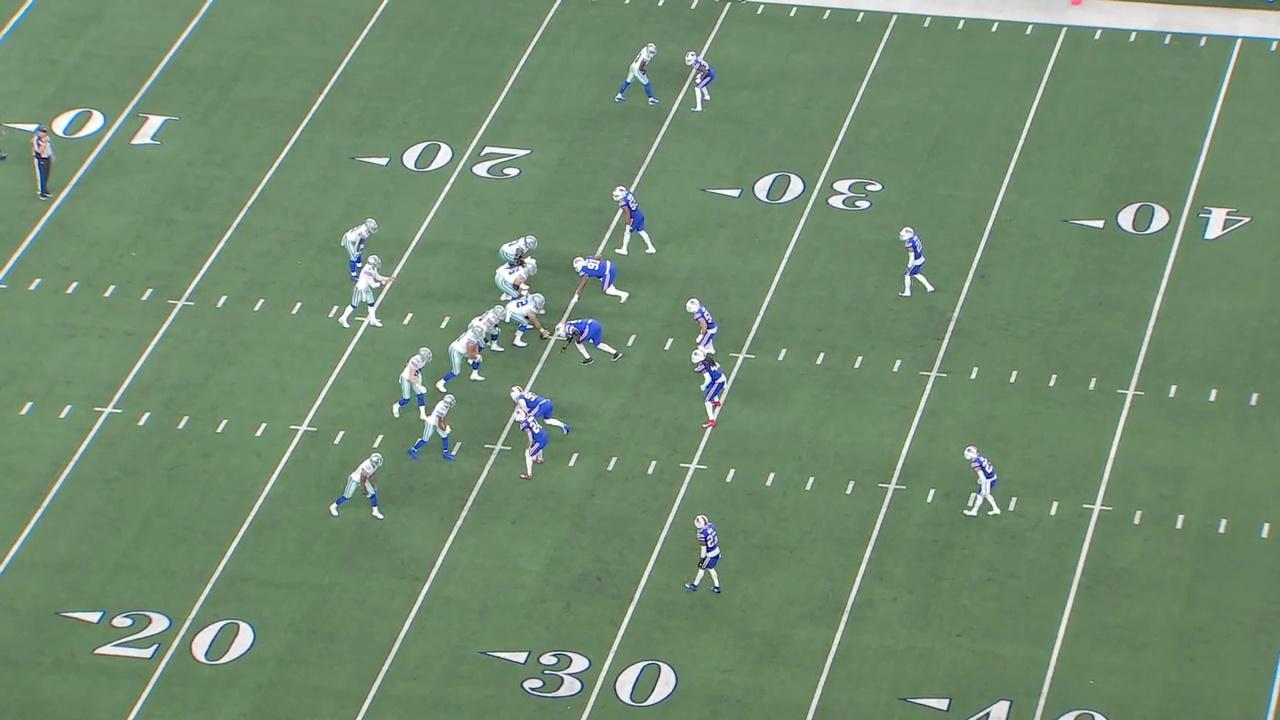player: (337, 252, 398, 331), (327, 450, 386, 522), (406, 391, 460, 464), (434, 324, 487, 394), (390, 344, 435, 423), (682, 512, 724, 596), (567, 252, 631, 306), (555, 317, 624, 367), (611, 184, 658, 256), (509, 384, 571, 437), (689, 347, 728, 430), (613, 41, 662, 107), (962, 443, 1004, 519), (896, 224, 938, 299), (502, 292, 552, 349), (339, 217, 381, 284), (684, 296, 719, 373), (494, 233, 540, 291), (513, 408, 549, 481), (466, 303, 507, 367), (682, 50, 717, 113), (493, 261, 539, 304)
ref: (29, 126, 56, 203)
